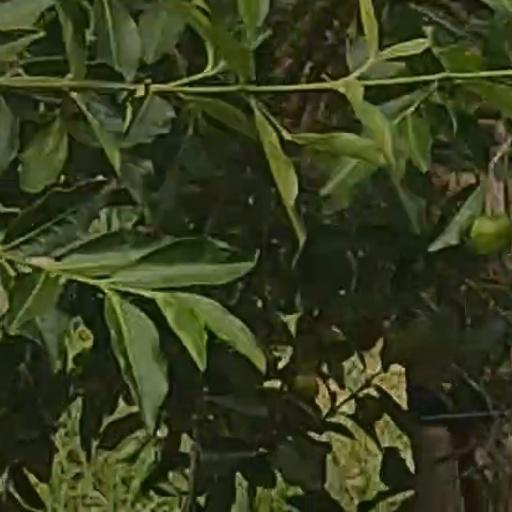acerola: (468, 216, 512, 252)
